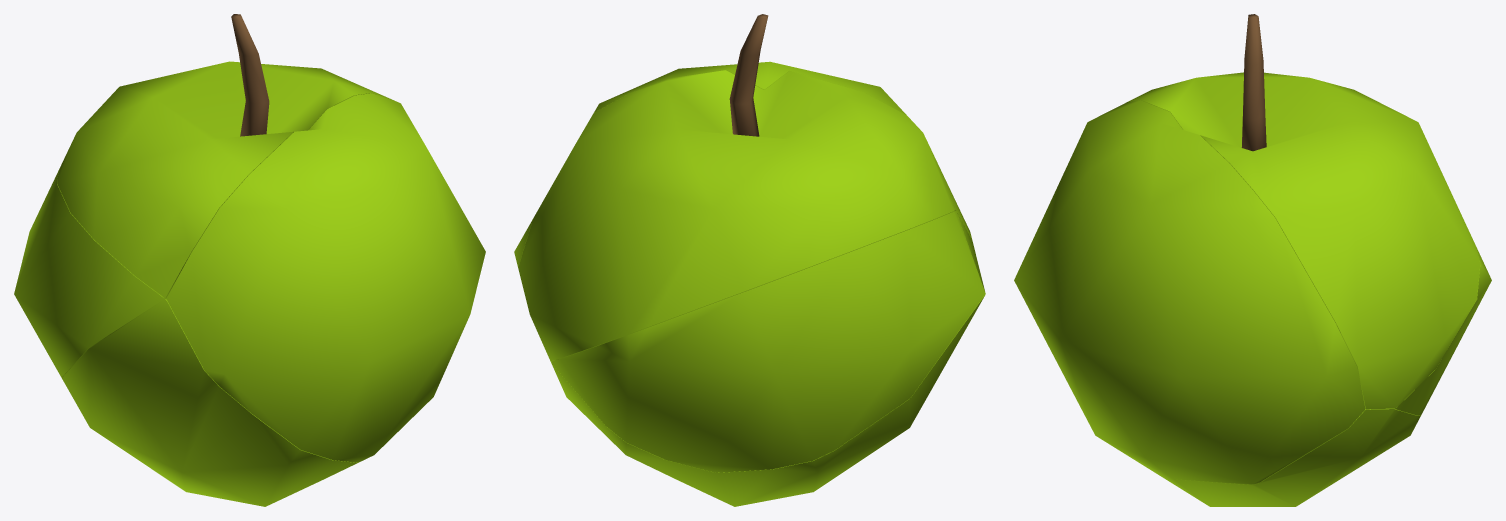
Rendered from BrokenItem2.fbx.
3 renders of one model, left to right at view 1: azimuth 30°, elevation 25°; view 2: azimuth 150°, elevation 25°; view 3: azimuth 270°, elevation 25°, orthographic.
Visible parts, largest first — view 1: Item3_cell.003, Item3_cell.002, Item3_cell.001, Item3_cell; view 2: Item3_cell.002, Item3_cell, Item3_cell.001, Item3_cell.003; view 3: Item3_cell.003, Item3_cell.002, Item3_cell.001, Item3_cell.
Part boxes in pixels (x1,y1,x2,y2): Item3_cell.003: (166, 93, 485, 462); Item3_cell.002: (57, 14, 382, 298); Item3_cell.001: (62, 299, 357, 506); Item3_cell: (14, 169, 166, 377); Item3_cell.002: (518, 14, 955, 361); Item3_cell: (551, 210, 985, 472); Item3_cell.001: (551, 211, 985, 506); Item3_cell.003: (514, 61, 972, 267); Item3_cell.003: (1014, 100, 1365, 484); Item3_cell.002: (1128, 14, 1480, 409); Item3_cell.001: (1121, 408, 1421, 506); Item3_cell: (1395, 246, 1491, 415).
Bounding box in the file's own units: 186 × 207 × 195.
